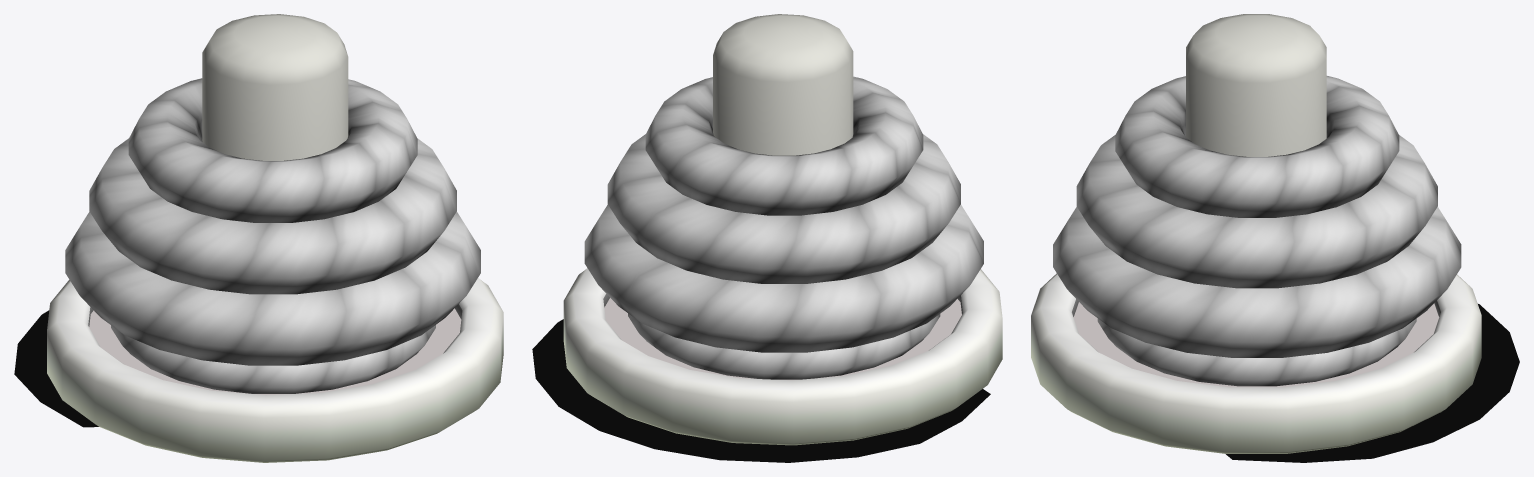
File: woodring.fbx
3 renders of one model, left to right at view 1: azimuth 30°, elevation 25°; view 2: azimuth 150°, elevation 25°; view 3: azimuth 270°, elevation 25°, orthographic. The views are drawn at different scales.
Visible parts, largest first — view 1: polySurface4217, SM_vong2, SM_vong3, SM_vong4, polySurface4218, SM_vong1, shadow; view 2: polySurface4217, SM_vong2, SM_vong3, SM_vong4, polySurface4218, shadow, SM_vong1; view 3: polySurface4217, SM_vong2, SM_vong3, SM_vong4, polySurface4218, SM_vong1, shadow.
Part boxes in pixels (x1,y1,x2,y2): polySurface4217: [47, 278, 503, 462]; SM_vong2: [65, 211, 480, 365]; SM_vong3: [89, 138, 456, 294]; SM_vong4: [128, 78, 417, 222]; polySurface4218: [202, 14, 348, 160]; SM_vong1: [111, 325, 435, 393]; shadow: [14, 310, 98, 427]; polySurface4217: [563, 268, 1002, 445]; SM_vong2: [584, 204, 983, 352]; SM_vong3: [607, 134, 960, 283]; SM_vong4: [645, 76, 923, 215]; polySurface4218: [713, 14, 853, 155]; shadow: [532, 319, 990, 462]; SM_vong1: [628, 313, 940, 379]; polySurface4217: [1031, 273, 1481, 453]; SM_vong2: [1053, 207, 1461, 357]; SM_vong3: [1076, 135, 1437, 288]; SM_vong4: [1115, 76, 1399, 217]; polySurface4218: [1186, 14, 1326, 156]; SM_vong1: [1097, 318, 1416, 386]; shadow: [1226, 304, 1519, 462].
Bounding box in the file's own units: 64.48 × 49.66 × 65.98.
